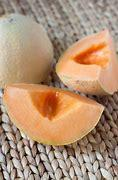Melon Ripe: (5, 83, 104, 145), (55, 29, 118, 96), (0, 10, 54, 88)
